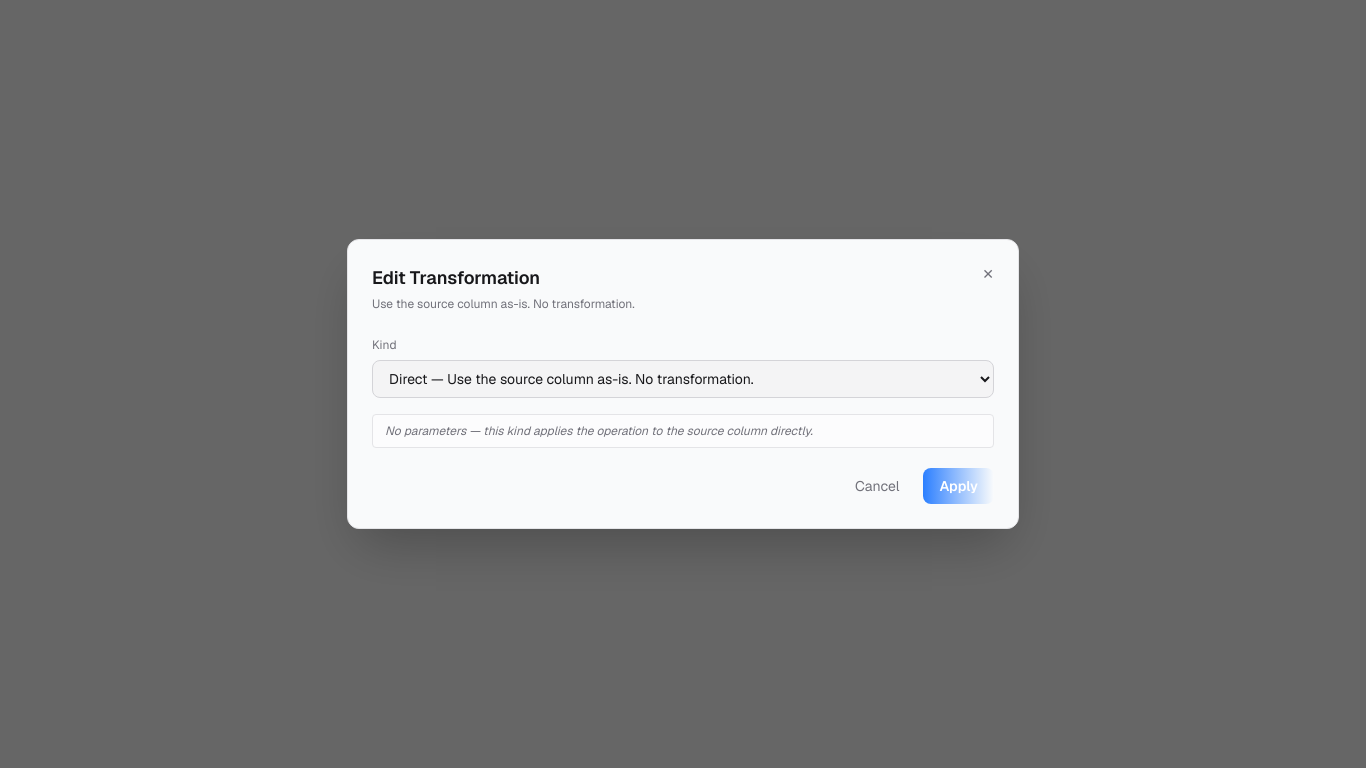
Test case: TransformEditor — case (threshold conditional) › switching Kind to Conditional (If/Else) shows the operator/compare/then/else fields
Select "Conditional (If/Else) — If the source value meets a threshold, use one value, ot" in the dropdown labelled "Kind" at coordinates (683, 379), box [372,360,994,398]
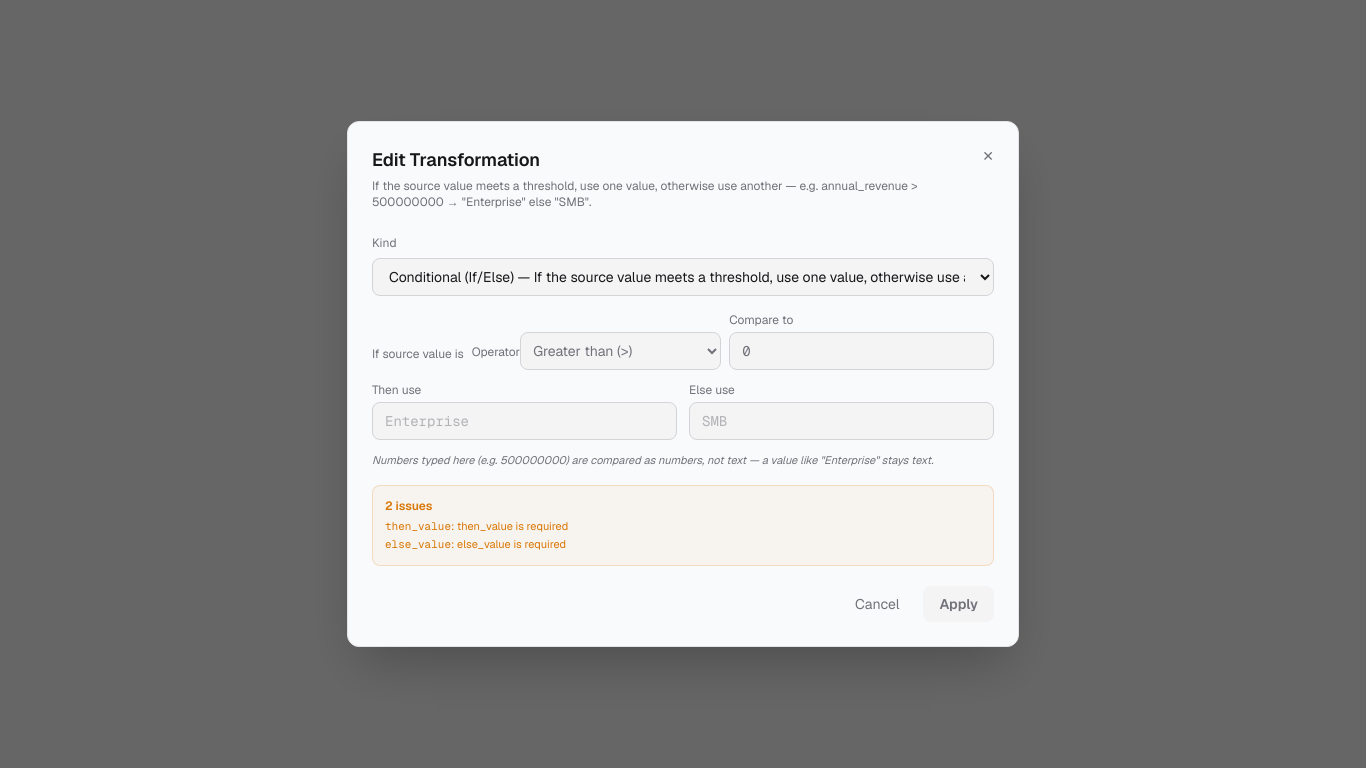
Check: the dropdown labelled "Operator" is shown, box [520,332,721,370]
Check: the field labelled "Compare to" is shown, box [729,332,994,370]
Check: the field labelled "Then use" is shown, box [372,402,677,440]
